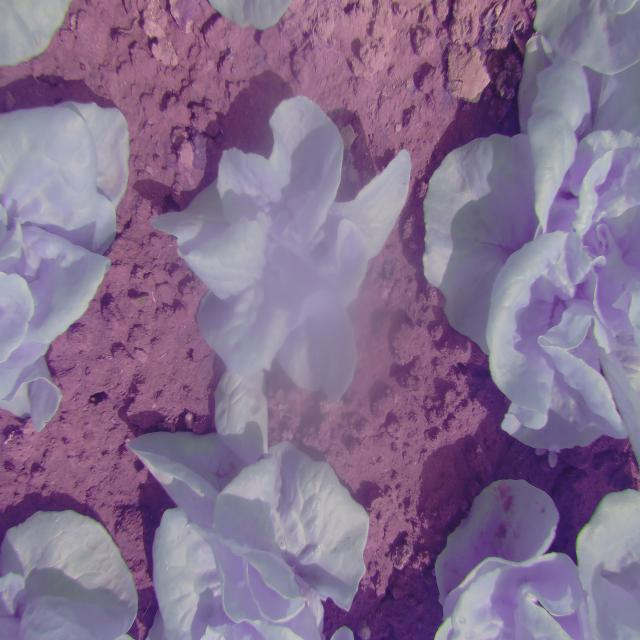vege: (164, 94, 413, 425)
